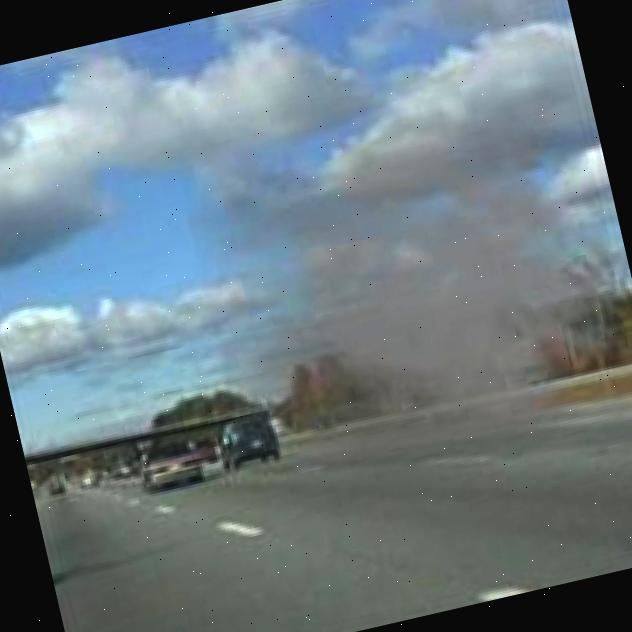smoke: (175, 75, 632, 541)
